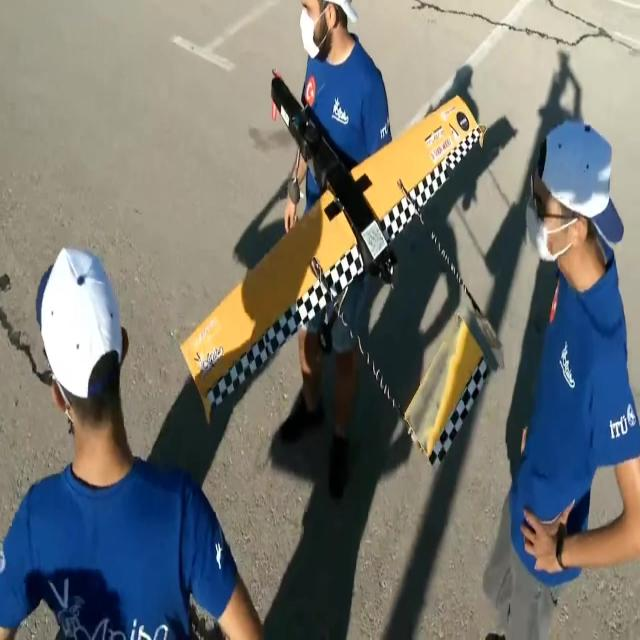iha: (178, 65, 504, 474)
